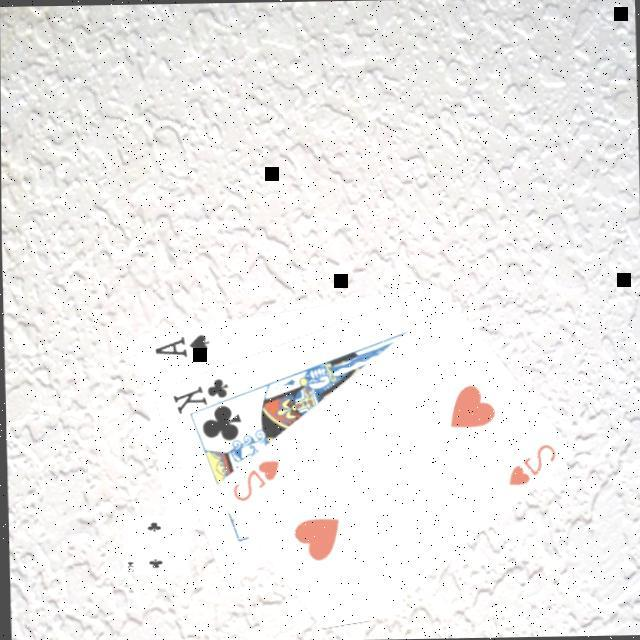2H: (225, 456, 280, 506), (500, 441, 556, 490)
AS: (147, 331, 209, 360)
KC: (165, 375, 239, 420)
